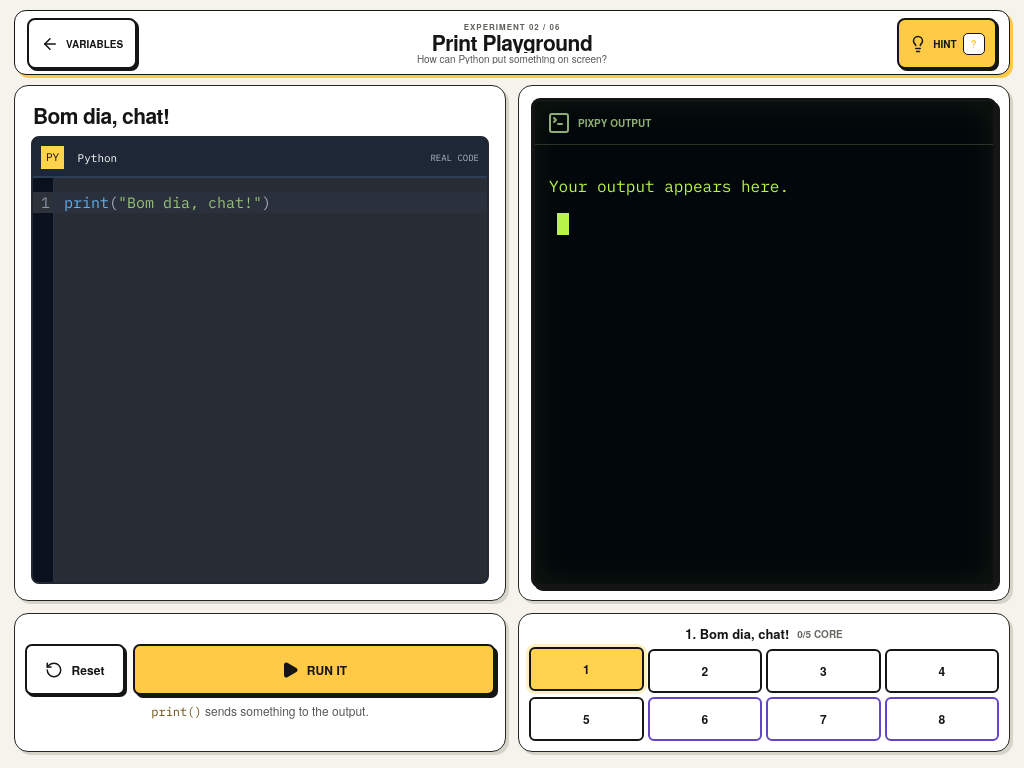
Test: Print Playground screen › runs through the existing runner, preserves output, and reacts only to a valid result
The image size is (1024, 768).
What coordinates should you click on to do the following:
click the button "RUN IT"
I would click on:
 (314, 670)
Its box is top-left (133, 644), bottom-right (495, 695).
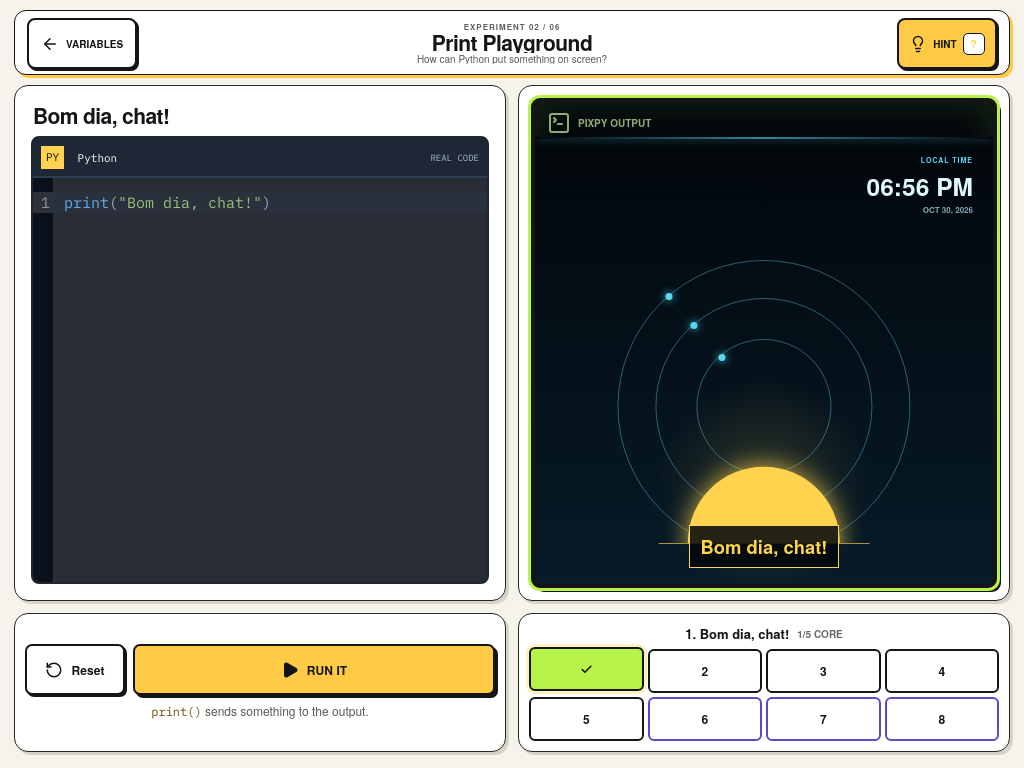
Expected: the element named "Morning greeting display" is shown, top-left (535, 137), bottom-right (993, 584)
Expected: the text "Bom dia, chat!" is shown, top-left (688, 525), bottom-right (839, 568)
